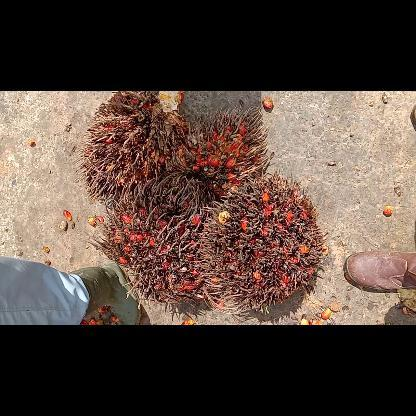Terlalu masak: (84, 173, 228, 315), (193, 172, 330, 316), (73, 91, 196, 205), (170, 103, 274, 200)
